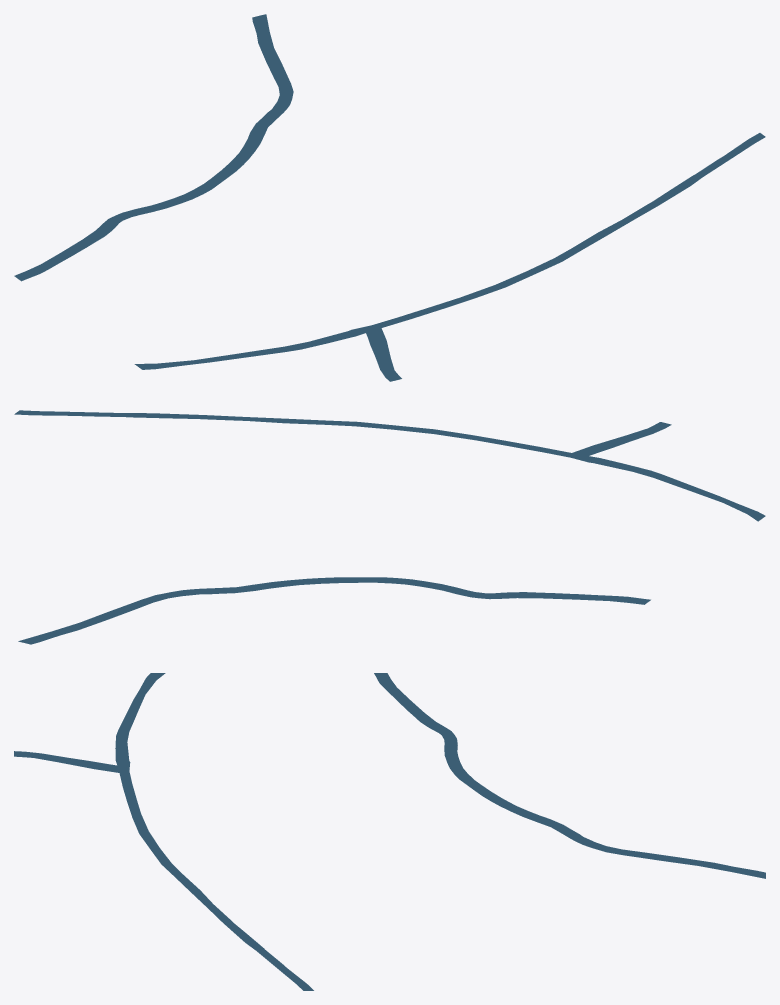
Rendered from water.glb.
3 views of the same model, one above another, from view 1: azimuth 30°, elevation 25°; view 2: azimuth 150°, elevation 25°; view 3: azimuth 270°, elevation 25° (orthographic). The views are drawn at different scales.
Parts seen in each view (by area): view 1: water; view 2: water; view 3: water.
Part boxes in pixels (x1=…): water: x1=14, y1=14, x2=765, y2=381; water: x1=14, y1=410, x2=765, y2=644; water: x1=14, y1=673, x2=765, y2=990.
Size of the model in its own units: 1500 by 0 by 1500.
